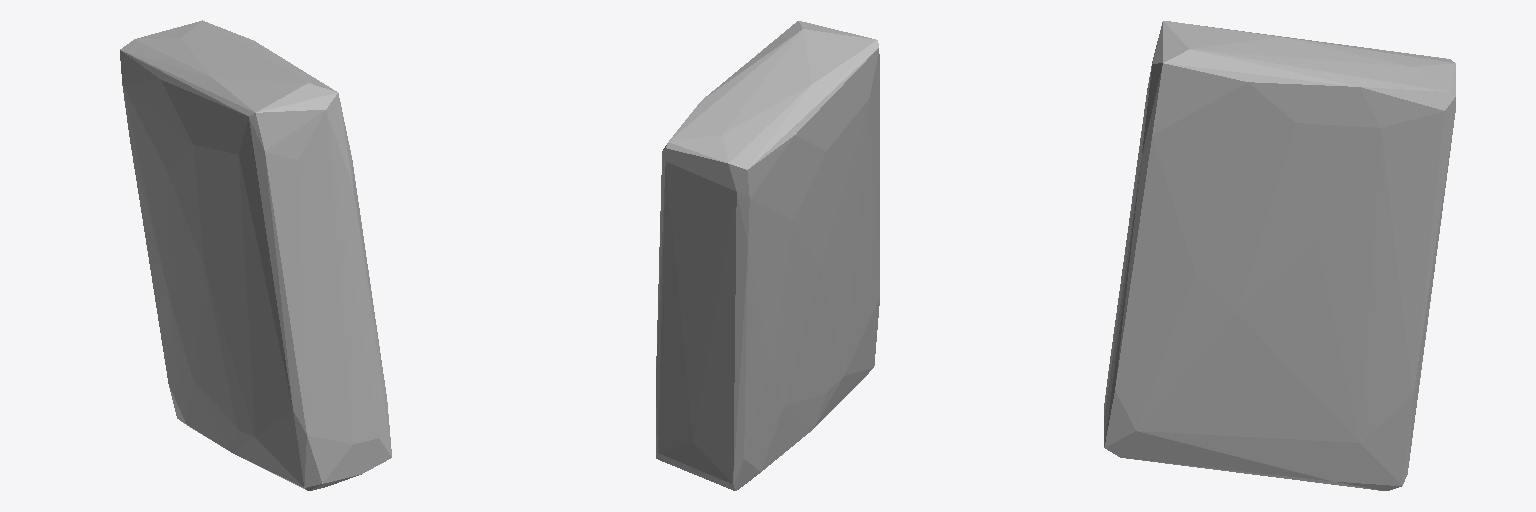
The robot description file, URDF, robot "root":
<robot name="root">
  <link name="link_kit~Patches_800_tex_convex_piece_0">
    <inertial>
      <origin rpy="0 0 0" xyz="0 0 0"/>
      <mass value="6.56E+00"/>
      <inertia ixx="3.69E-02" ixy="-2.84E-05" ixz="-1.85E-03" iyy="2.66E-02" iyz="1.54E-03" izz="1.44E-02"/>
    </inertial>
    <visual>
      <origin rpy="0 0 0" xyz="0 0 0"/>
      <geometry>
        <mesh filename="kit~Patches_800_tex_convex_piece_0.obj" scale="1.0000E+00 1.0000E+00 1.0000E+00"/>
      </geometry>
      <material name="">
        <color rgba="7.50E-01 7.50E-01 7.50E-01 1"/>
      </material>
    </visual>
    <collision>
      <origin rpy="0 0 0" xyz="0 0 0"/>
      <geometry>
        <mesh filename="kit~Patches_800_tex_convex_piece_0.obj" scale="1.0000E+00 1.0000E+00 1.0000E+00"/>
      </geometry>
    </collision>
  </link>
</robot>

--- Facts derived from the render (not from the file) ---
Views: 3 orthographic renders of the robot side by side, from view 1: azimuth 30°, elevation 25°; view 2: azimuth 150°, elevation 25°; view 3: azimuth 270°, elevation 25°.
Robot: root — 1 links, 0 joints (none); root link link_kit~Patches_800_tex_convex_piece_0; default pose: every joint at zero.
Links seen in each view (by area): view 1: link_kit~Patches_800_tex_convex_piece_0; view 2: link_kit~Patches_800_tex_convex_piece_0; view 3: link_kit~Patches_800_tex_convex_piece_0.
Link boxes in pixels (x1,y1,x2,y2): link_kit~Patches_800_tex_convex_piece_0: (120, 20, 391, 490); link_kit~Patches_800_tex_convex_piece_0: (656, 21, 879, 490); link_kit~Patches_800_tex_convex_piece_0: (1104, 21, 1455, 490).
Bounding box of the posed robot: 0.0739 × 0.1743 × 0.2324 m (x, y, z).
Meshes: 1 distinct files referenced, 1 mesh visuals loaded (1 OBJ).
